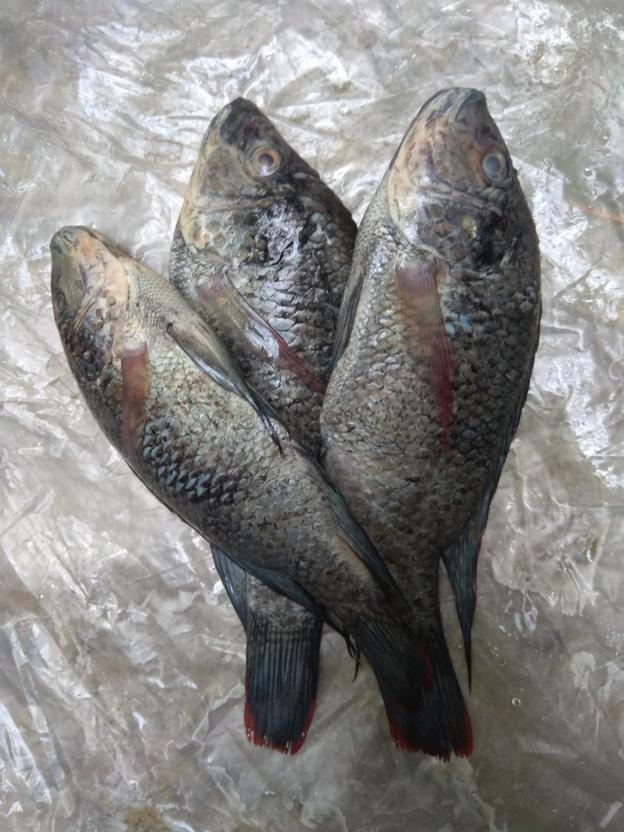Fish head: (386, 87, 539, 278), (177, 97, 341, 274), (50, 224, 156, 384)
Fish tail: (350, 591, 475, 764), (242, 606, 322, 759)
